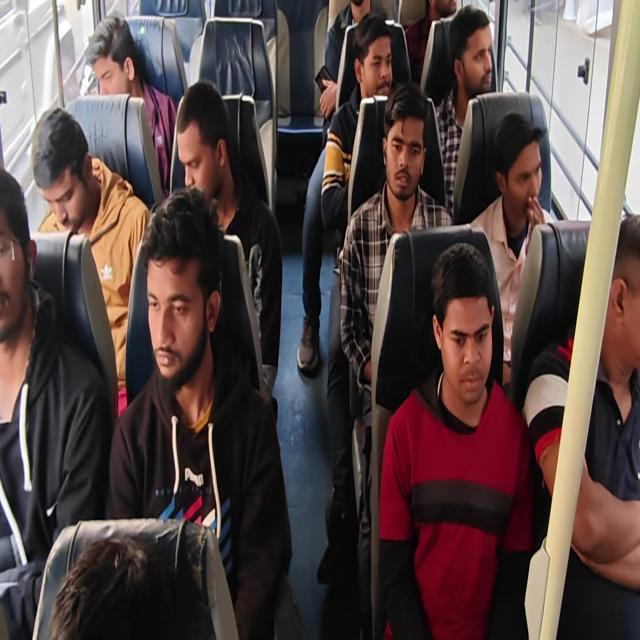person: (1, 1, 638, 638), (106, 184, 296, 638), (338, 80, 453, 634), (378, 241, 534, 638), (0, 166, 112, 638), (522, 211, 639, 638), (30, 107, 152, 414), (175, 80, 283, 420), (297, 7, 393, 373), (468, 111, 552, 387), (47, 532, 217, 638), (84, 13, 178, 196), (320, 13, 394, 243), (434, 4, 494, 214), (404, 0, 456, 86)
